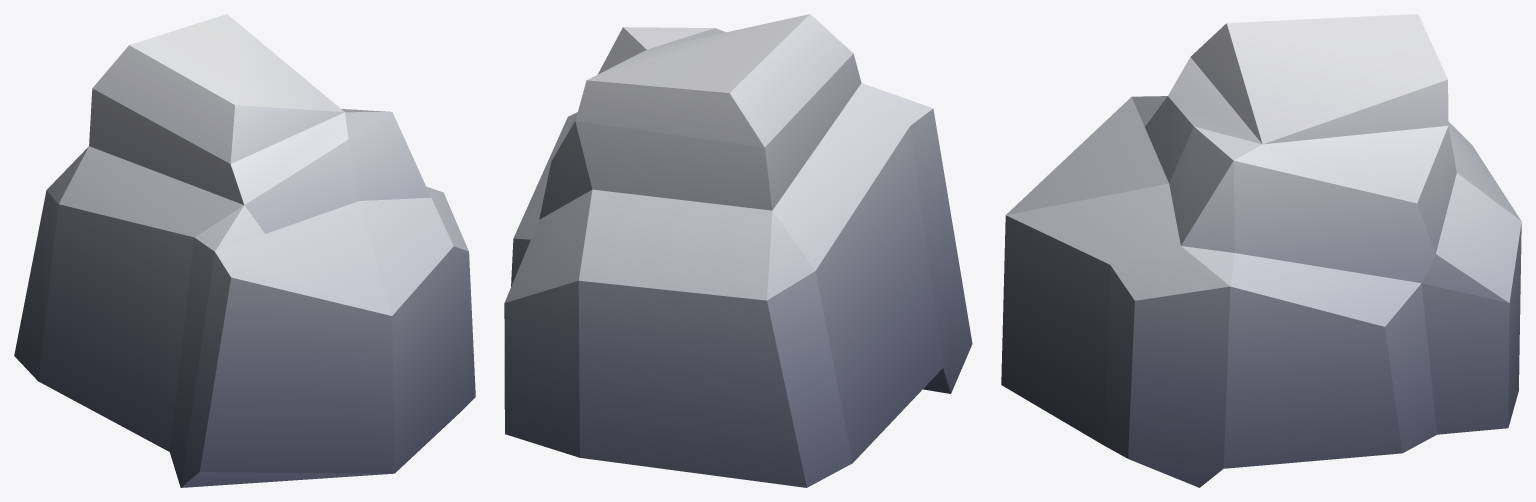
The model's file is Rock_7.fbx.
3 renders of one model, left to right at view 1: azimuth 30°, elevation 25°; view 2: azimuth 150°, elevation 25°; view 3: azimuth 270°, elevation 25°, orthographic. The views are drawn at different scales.
Parts seen in each view (by area): view 1: Rock_7; view 2: Rock_7; view 3: Rock_7.
Boxes of the visible parts, box(x1,y1,x2,y2) form: Rock_7: box(14, 14, 475, 487); Rock_7: box(504, 14, 972, 487); Rock_7: box(1001, 14, 1521, 487).
Bounding box in the file's own units: 0.8755 × 0.8494 × 1.1.
